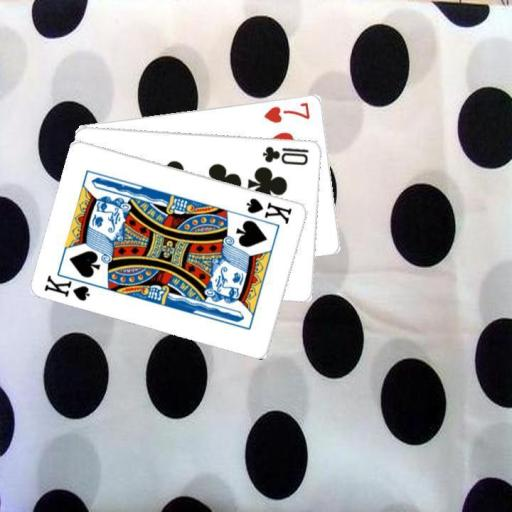card-corner: (41, 269, 99, 302), (243, 194, 294, 226), (261, 99, 312, 124), (260, 142, 310, 166)
